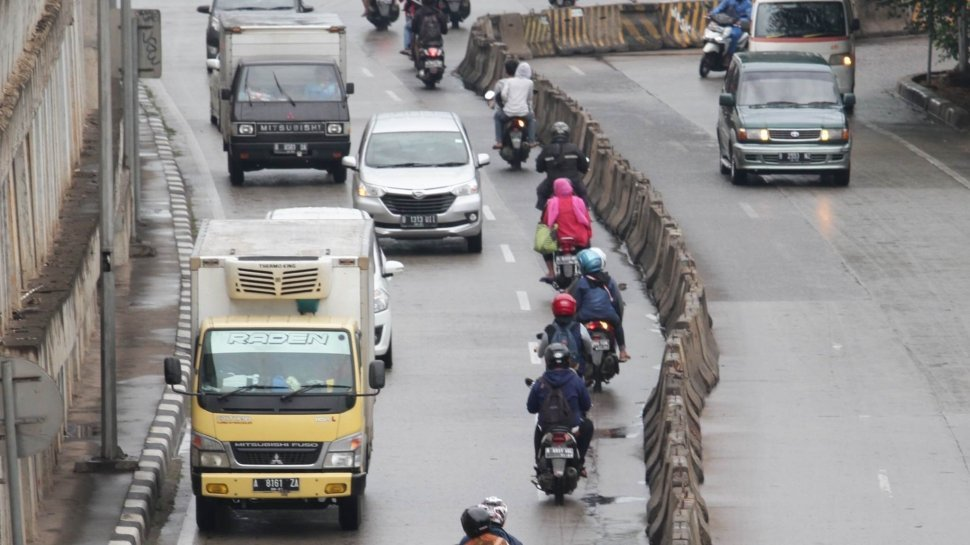car: (192, 215, 371, 537), (221, 15, 354, 189), (352, 109, 486, 256), (721, 59, 848, 195), (745, 2, 860, 119)
motorbike: (524, 352, 590, 493), (567, 258, 627, 390), (537, 298, 590, 420), (537, 117, 588, 236), (539, 181, 593, 290), (489, 63, 533, 173), (402, 1, 447, 90), (704, 2, 743, 79)
